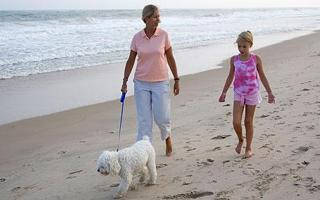person: (122, 5, 181, 157)
